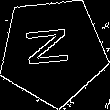N_E: (26, 28, 80, 74)
